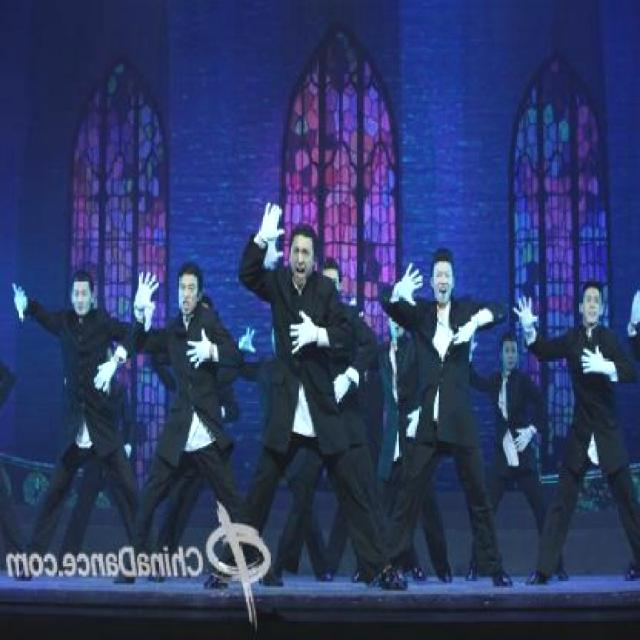face_nomask: (430, 263, 456, 312), (282, 243, 310, 283), (176, 281, 198, 317), (582, 292, 603, 328), (72, 284, 91, 318), (497, 348, 518, 377)
hand_glove: (398, 260, 424, 306), (259, 199, 286, 243), (132, 268, 160, 310), (289, 308, 314, 354), (186, 325, 211, 369), (514, 295, 538, 331), (92, 358, 116, 394), (9, 280, 28, 323), (582, 343, 610, 371), (452, 319, 480, 346), (332, 371, 351, 406), (512, 426, 532, 454), (238, 325, 257, 352)
head_nohelmet: (289, 225, 326, 252), (428, 248, 457, 269), (178, 264, 208, 284), (494, 330, 520, 352), (70, 275, 88, 294), (578, 283, 602, 297)
person: (234, 228, 358, 603), (511, 280, 629, 622), (383, 258, 497, 596), (15, 270, 128, 568), (135, 260, 228, 577)
